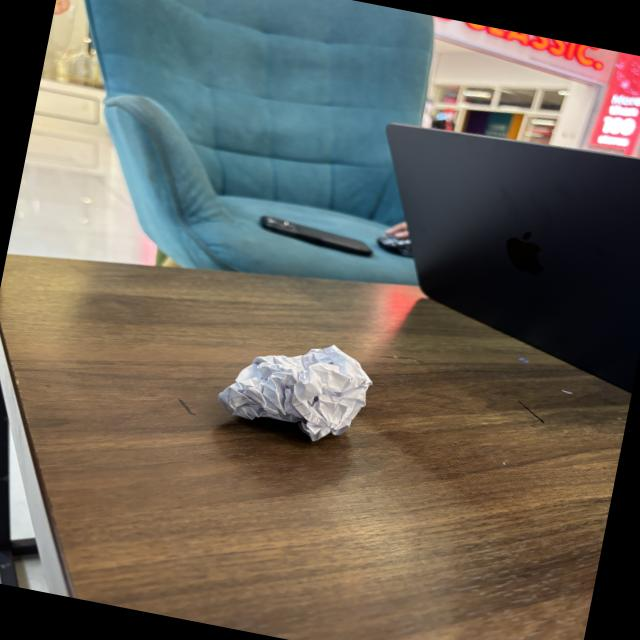crumpled_paper: (210, 319, 390, 458)
